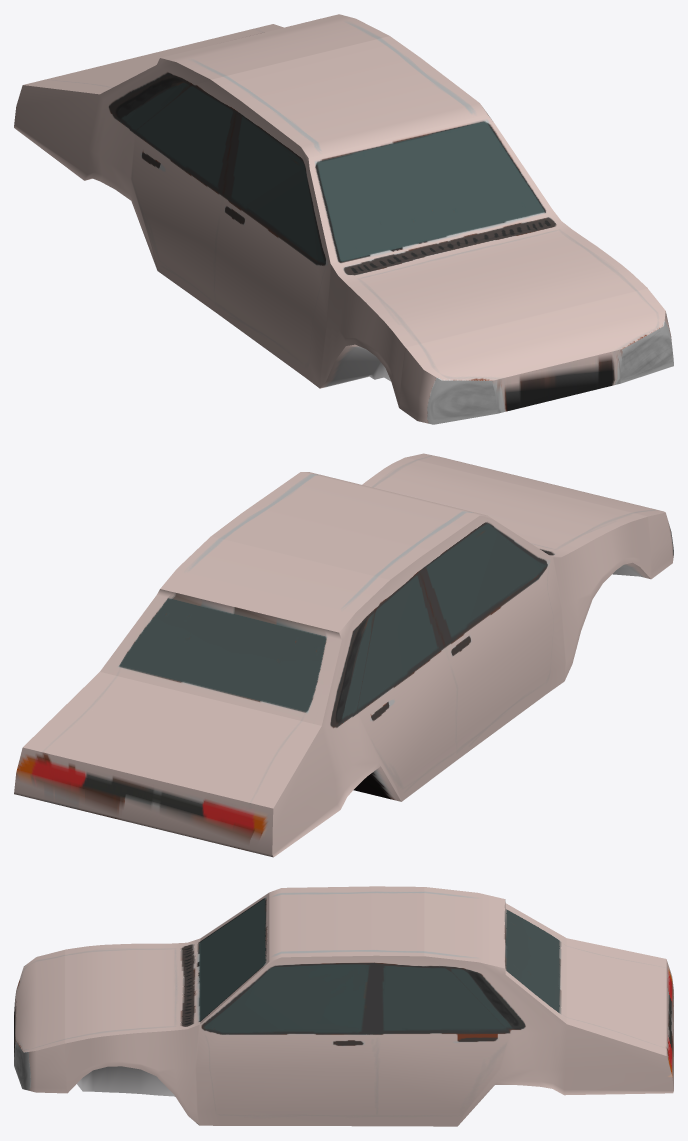
Rendered from lp-berline-creme.glb.
3 renders of one model, top to bottom at view 1: azimuth 30°, elevation 25°; view 2: azimuth 150°, elevation 25°; view 3: azimuth 270°, elevation 25°, orthographic. The views are drawn at different scales.
Visible parts, largest first — view 1: Object_27; view 2: Object_27; view 3: Object_27.
Boxes of the visible parts, x1,y1,x2,y2 form: Object_27: (14, 14, 673, 424); Object_27: (14, 453, 673, 857); Object_27: (14, 886, 673, 1126).
Bounding box in the file's own units: 2.07 × 1.52 × 5.75.
1 material, 1 textured.
